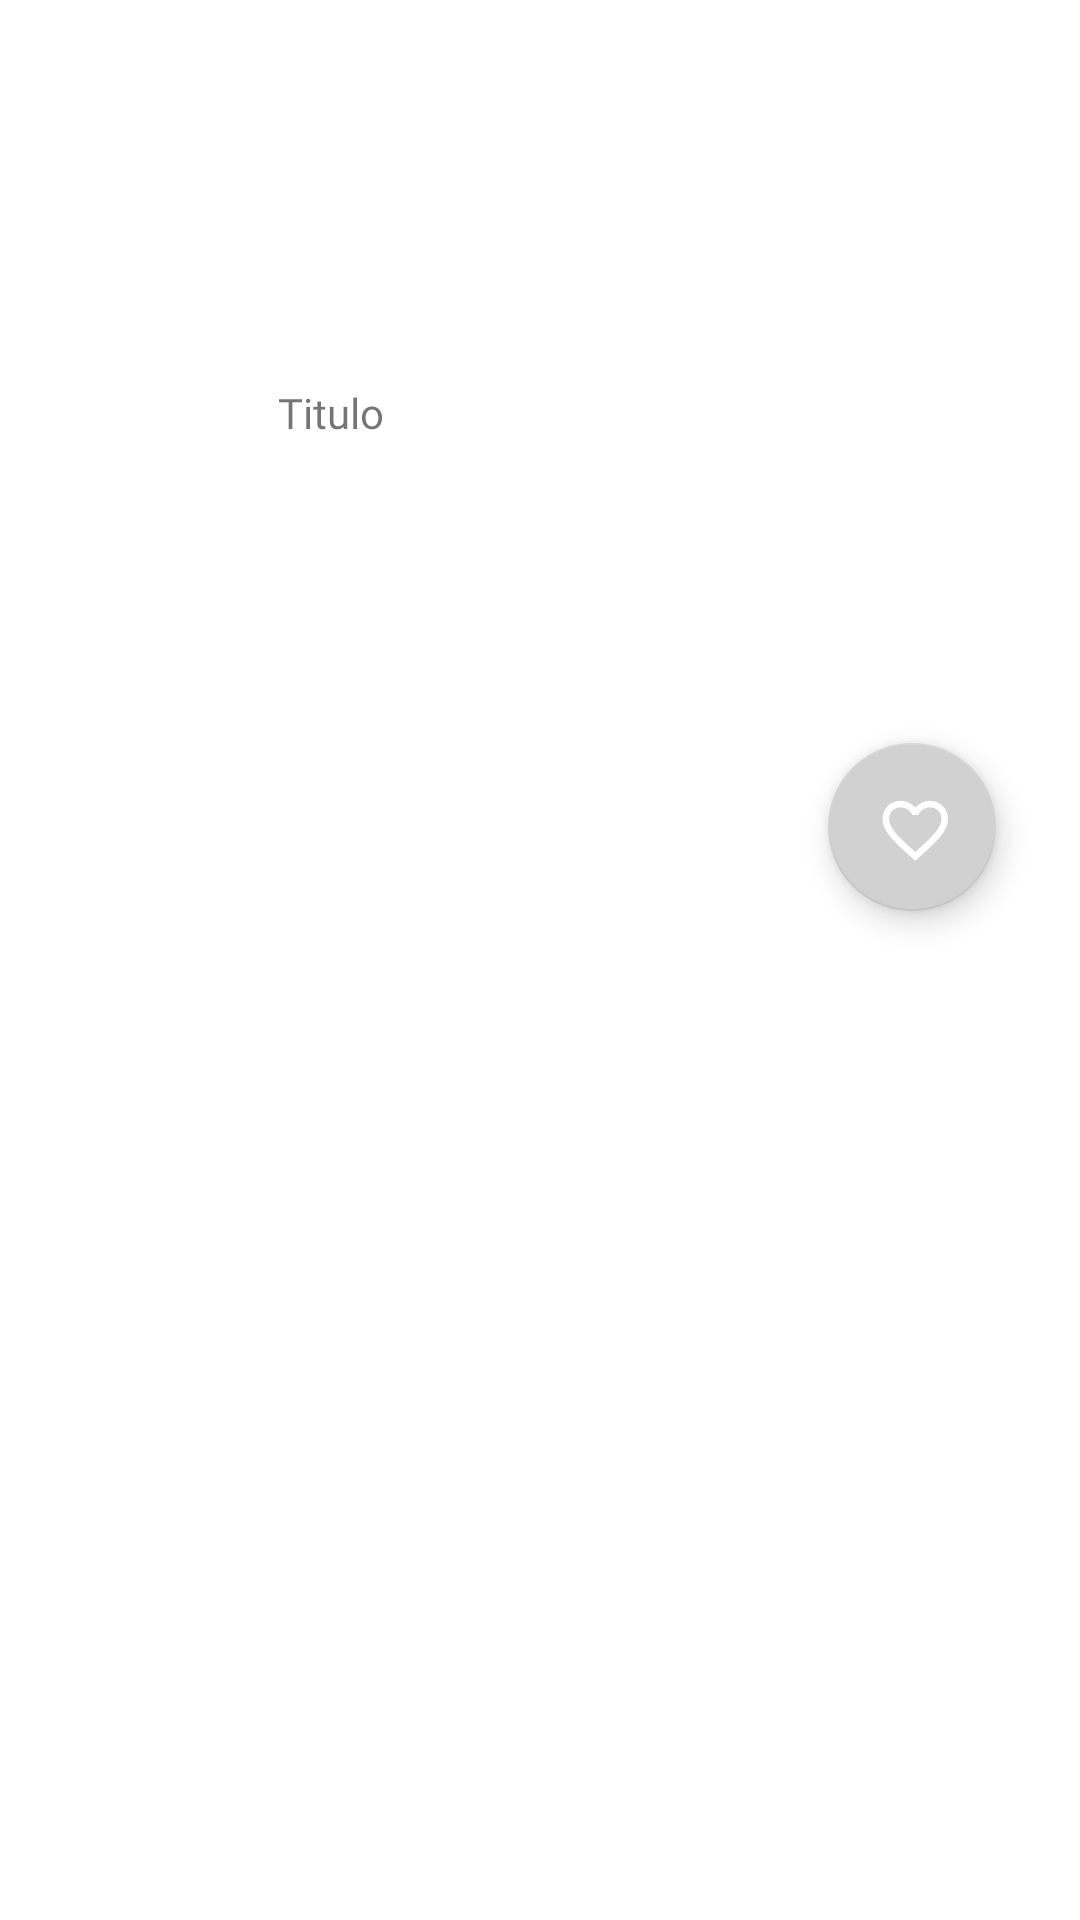

Icons on this 1080×1920 Android screen, each with the point to tap as (x,y):
favourite: (912,827)
